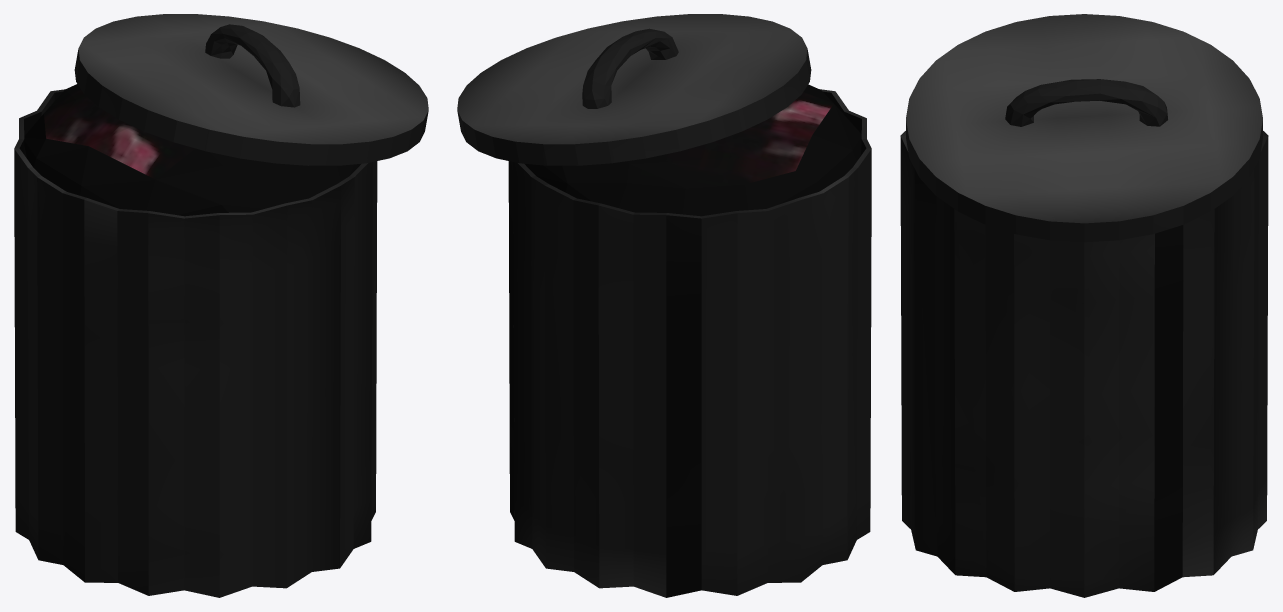
Rendered from pink-bin.dae.
3 views of the same model, side by side, from view 1: azimuth 30°, elevation 25°; view 2: azimuth 150°, elevation 25°; view 3: azimuth 270°, elevation 25° (orthographic).
Parts seen in each view (by area): view 1: Cylinder; view 2: Cylinder; view 3: Cylinder.
Boxes of the visible parts, x1,y1,x2,y2 form: Cylinder: (14, 14, 428, 597); Cylinder: (457, 14, 871, 597); Cylinder: (900, 14, 1268, 597).
Bounding box in the file's own units: 0.171 × 0.1475 × 0.2081.
1 material, 1 textured.
